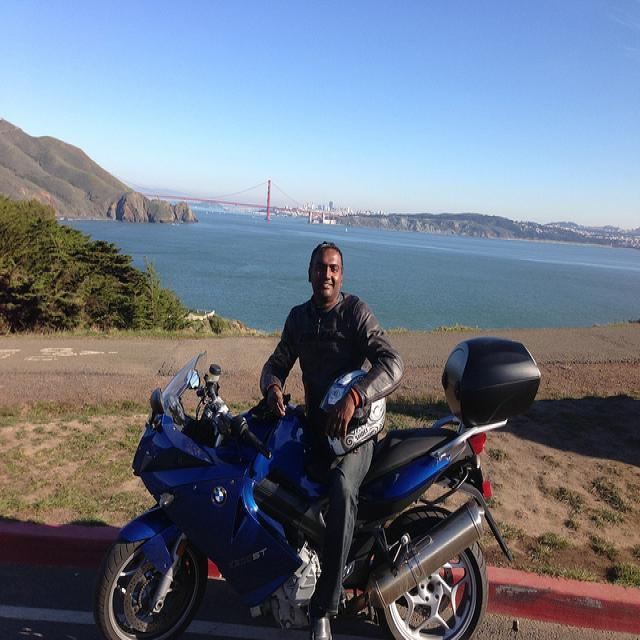motor: (95, 341, 544, 640)
